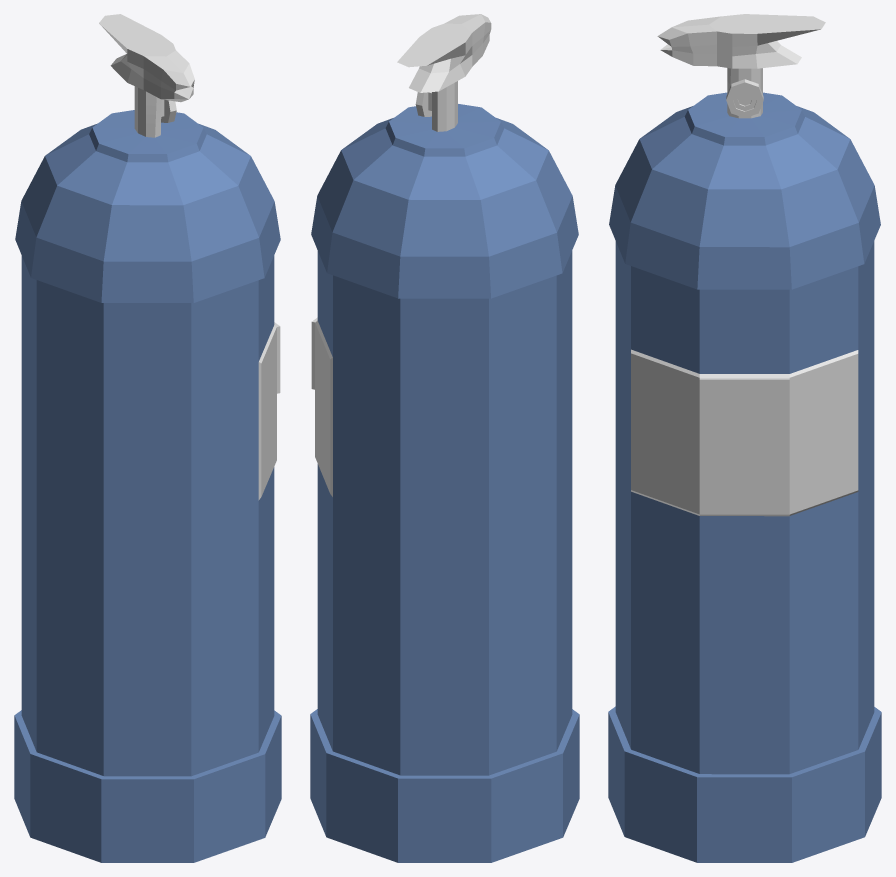
File: Barrel.fbx
3 renders of one model, left to right at view 1: azimuth 30°, elevation 25°; view 2: azimuth 150°, elevation 25°; view 3: azimuth 270°, elevation 25°, orthographic. The views are drawn at different scales.
Visible parts, largest first — view 1: Barrel; view 2: Barrel; view 3: Barrel.
Boxes of the visible parts, box(x1,y1,x2,y2) form: Barrel: box(14, 14, 281, 862); Barrel: box(310, 14, 579, 862); Barrel: box(608, 14, 881, 862).
Bounding box in the file's own units: 1.94 × 6.23 × 1.97.
